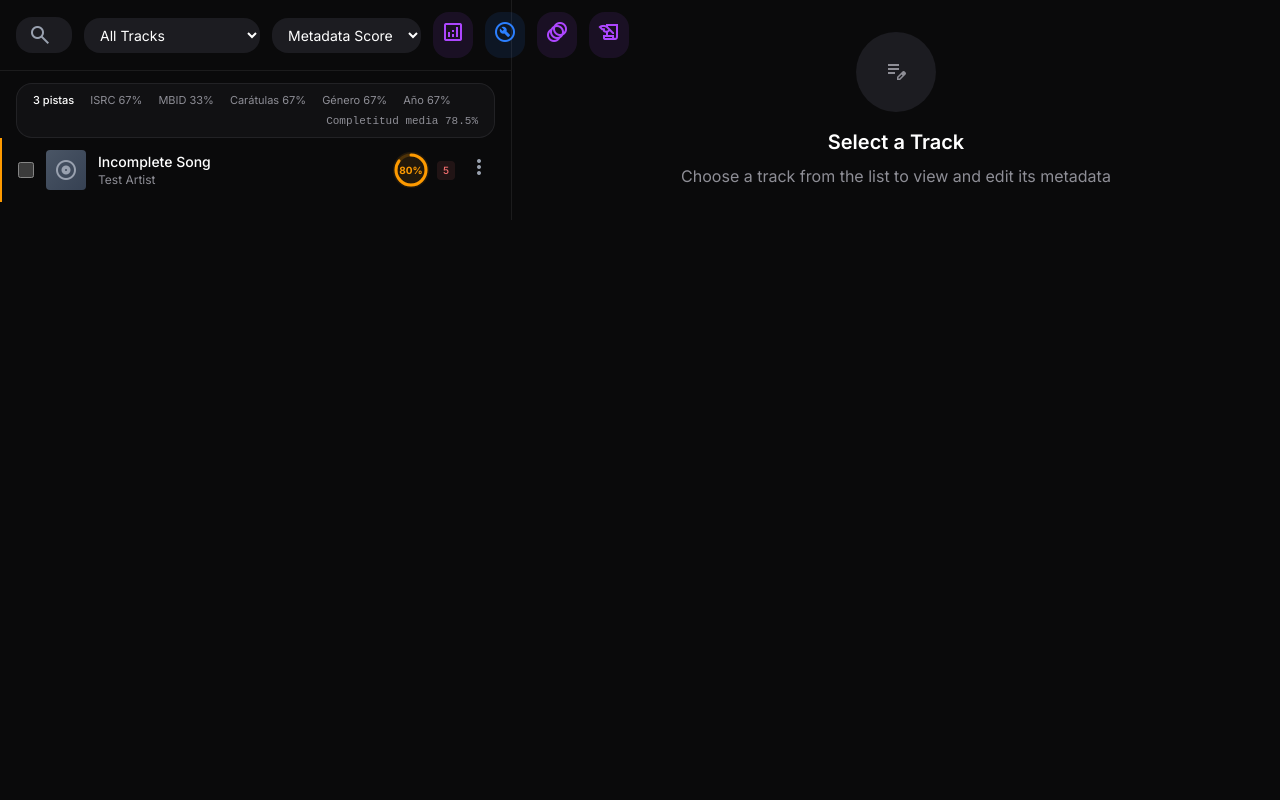
Test: MetadataView (fully wired tab) › Q-06: selected track names the missing fields behind its issue count
What coordinates should you click on to do the following:
click the element with class "track-row"
I would click on:
 (256, 170)
Its box is top-left (0, 138), bottom-right (511, 202).
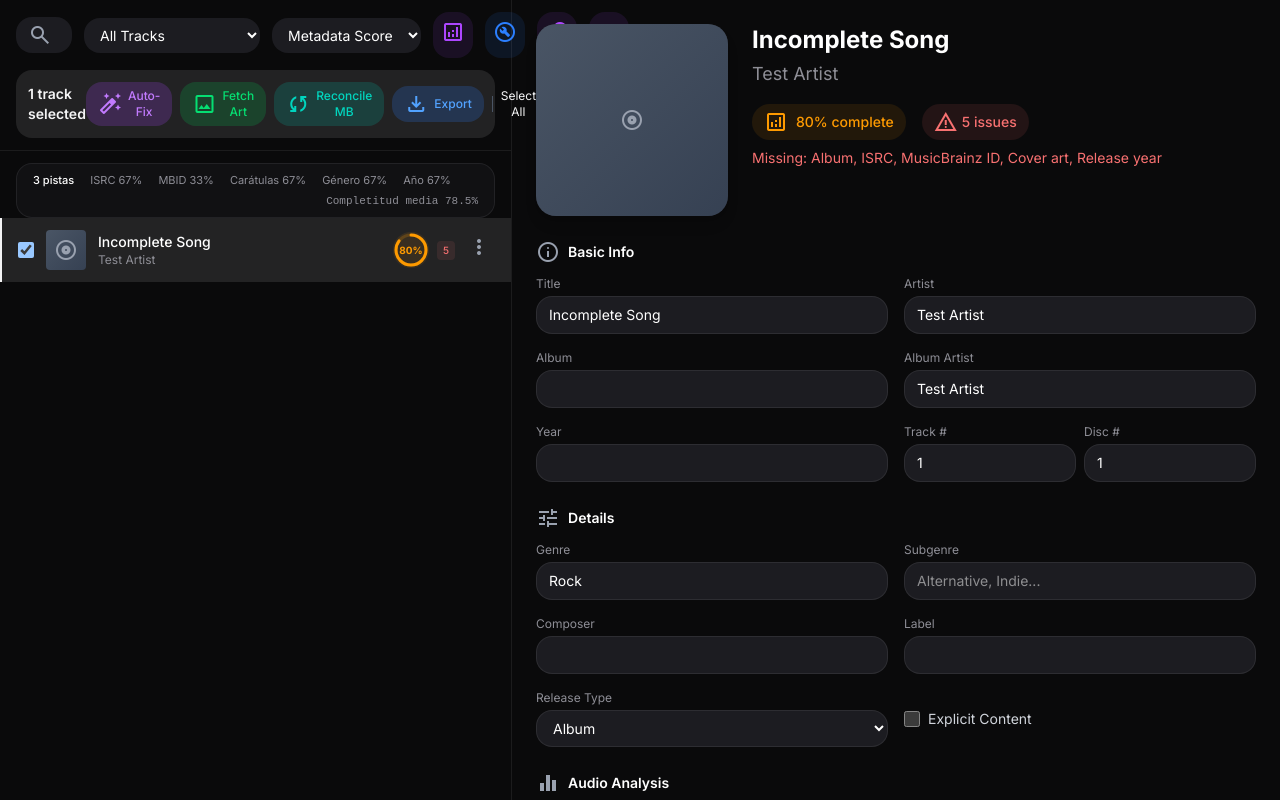
Check: the text with test id "metadata-issues-detail" shows "Album", box top-left (752, 149), bottom-right (1162, 166)
Check: the text with test id "metadata-issues-detail" shows "ISRC", box top-left (752, 149), bottom-right (1162, 166)
Check: the text with test id "metadata-issues-detail" shows "MusicBrainz ID", box top-left (752, 149), bottom-right (1162, 166)
